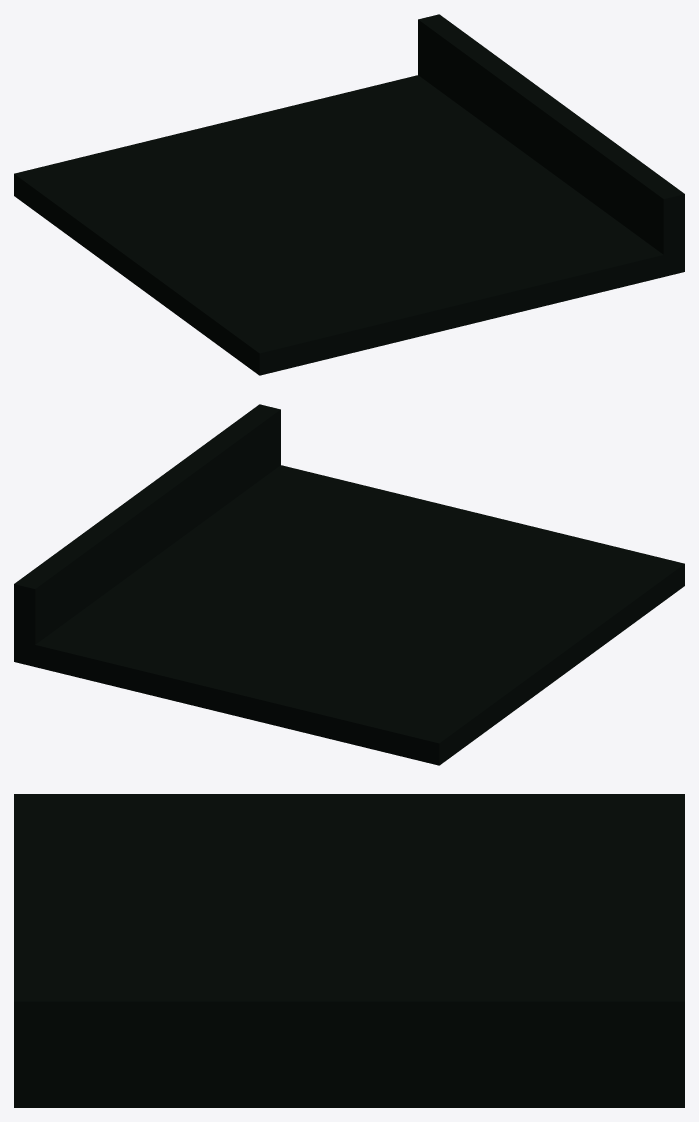
File: BlackRoof_1Edge.glb
3 renders of one model, top to bottom at view 1: azimuth 30°, elevation 25°; view 2: azimuth 150°, elevation 25°; view 3: azimuth 270°, elevation 25°, orthographic. The views are drawn at different scales.
Visible parts, largest first — view 1: roof_flat_1Edge_black; view 2: roof_flat_1Edge_black; view 3: roof_flat_1Edge_black.
Boxes of the visible parts, x1,y1,x2,y2 form: roof_flat_1Edge_black: [14, 14, 684, 375]; roof_flat_1Edge_black: [14, 404, 684, 765]; roof_flat_1Edge_black: [14, 794, 684, 1107].
Size of what is drawn, in the model's own units: 4 by 0.7 by 4.
Materials: 1 (1 with a texture image).
